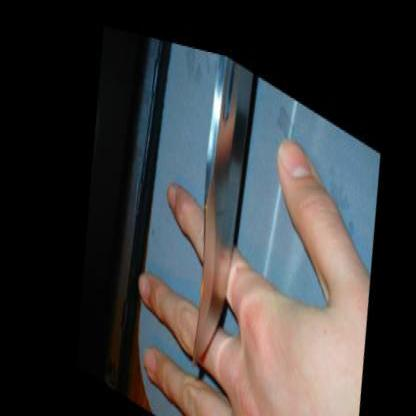knife: (133, 26, 323, 411)
